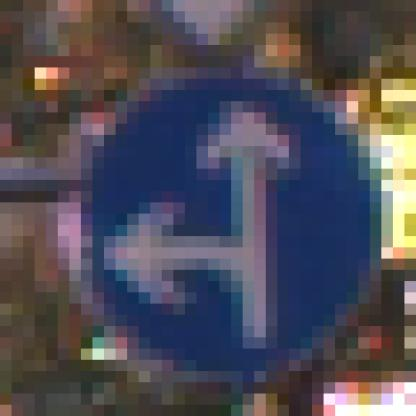Straight or Left: (71, 68, 360, 361)
